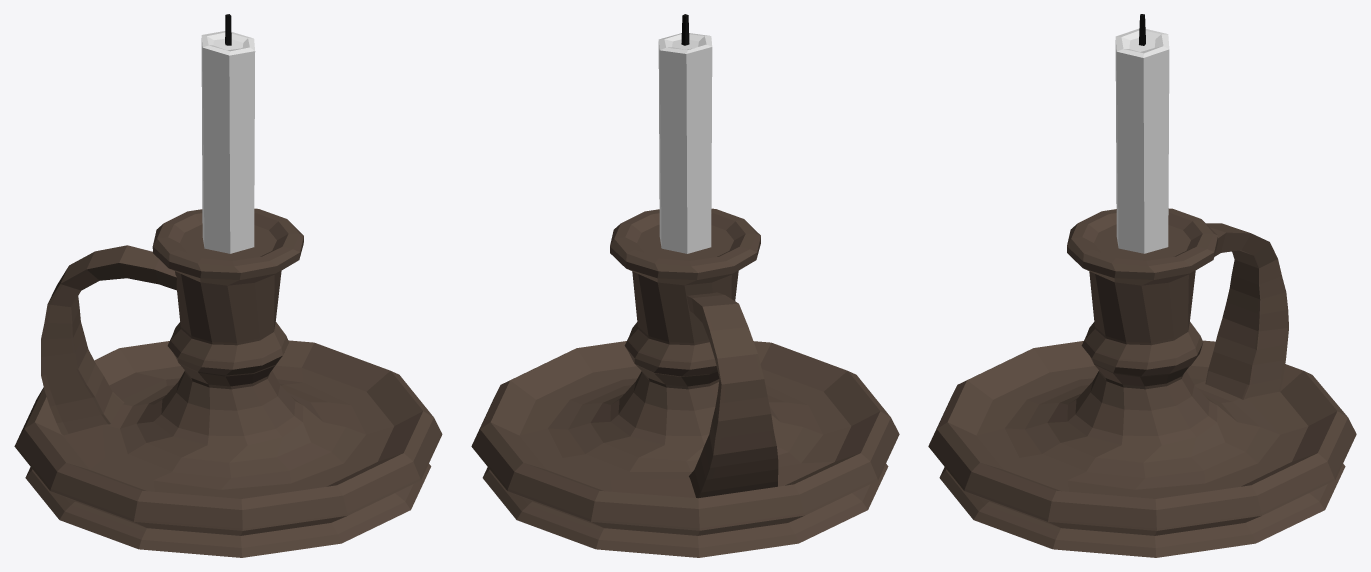
Rendered from Candle.fbx.
3 renders of one model, left to right at view 1: azimuth 30°, elevation 25°; view 2: azimuth 150°, elevation 25°; view 3: azimuth 270°, elevation 25°, orthographic.
Visible parts, largest first — view 1: Candle; view 2: Candle; view 3: Candle.
Part boxes in pixels (x1,y1,x2,y2): Candle: [14, 14, 442, 557]; Candle: [471, 14, 899, 557]; Candle: [928, 14, 1356, 557].
Bounding box in the file's own units: 687 × 809 × 687.
